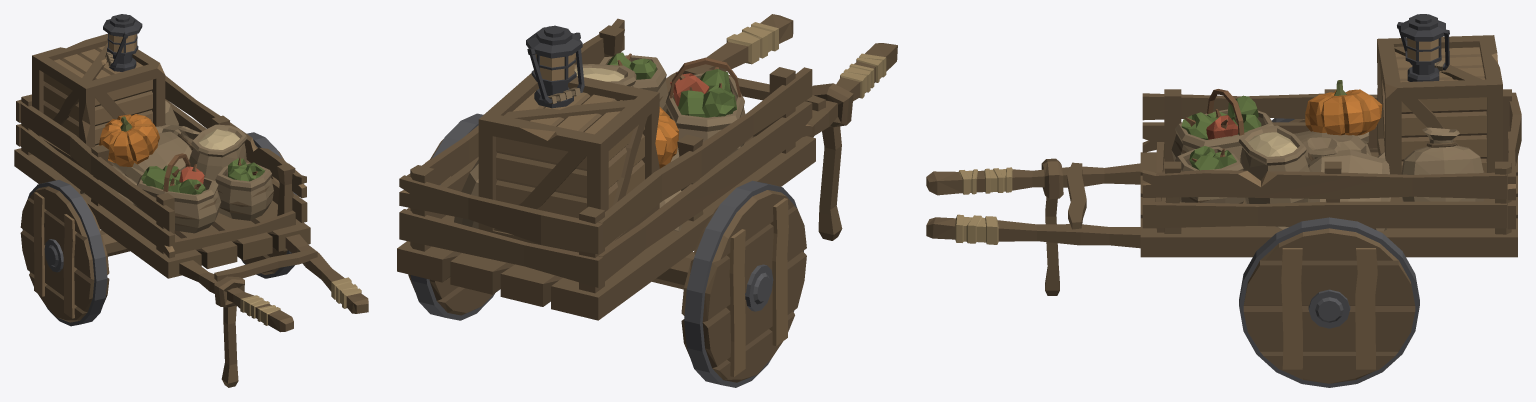
Rendered from SM_Prop_Cart_02.gltf.
3 views of the same model, side by side, from view 1: azimuth 30°, elevation 25°; view 2: azimuth 150°, elevation 25°; view 3: azimuth 270°, elevation 25° (orthographic). The views are drawn at different scales.
Visible parts, largest first — view 1: SM_Prop_Cart_02; view 2: SM_Prop_Cart_02; view 3: SM_Prop_Cart_02.
Boxes of the visible parts, box(x1,y1,x2,y2) form: SM_Prop_Cart_02: box(14, 14, 368, 387); SM_Prop_Cart_02: box(397, 14, 897, 387); SM_Prop_Cart_02: box(926, 14, 1521, 387).
Bounding box in the file's own units: 1.67 × 1.8 × 3.15.
1 material, 1 textured.
